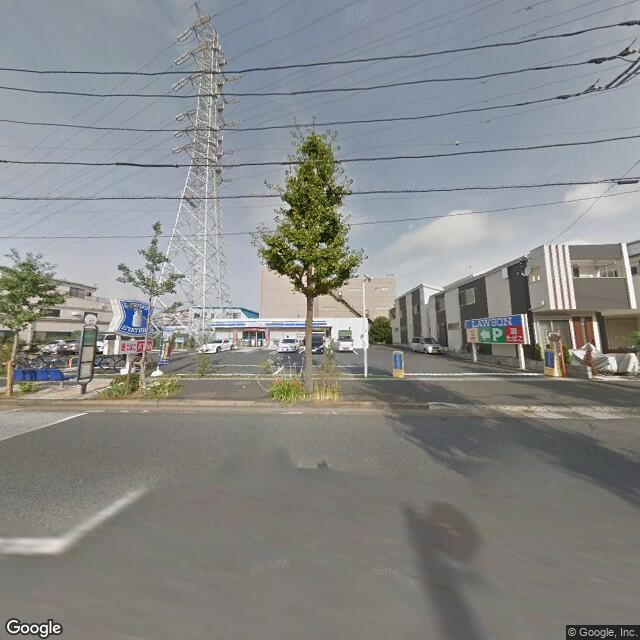lawson: (206, 314, 328, 333), (114, 296, 152, 346), (467, 308, 523, 331)
